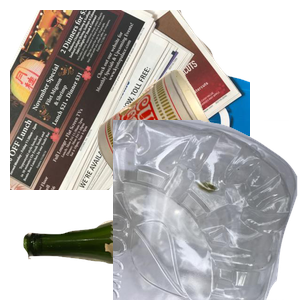glass: (21, 201, 261, 300)
paper: (10, 10, 250, 190)
plastic: (113, 120, 300, 300)
trash: (95, 67, 300, 238)
